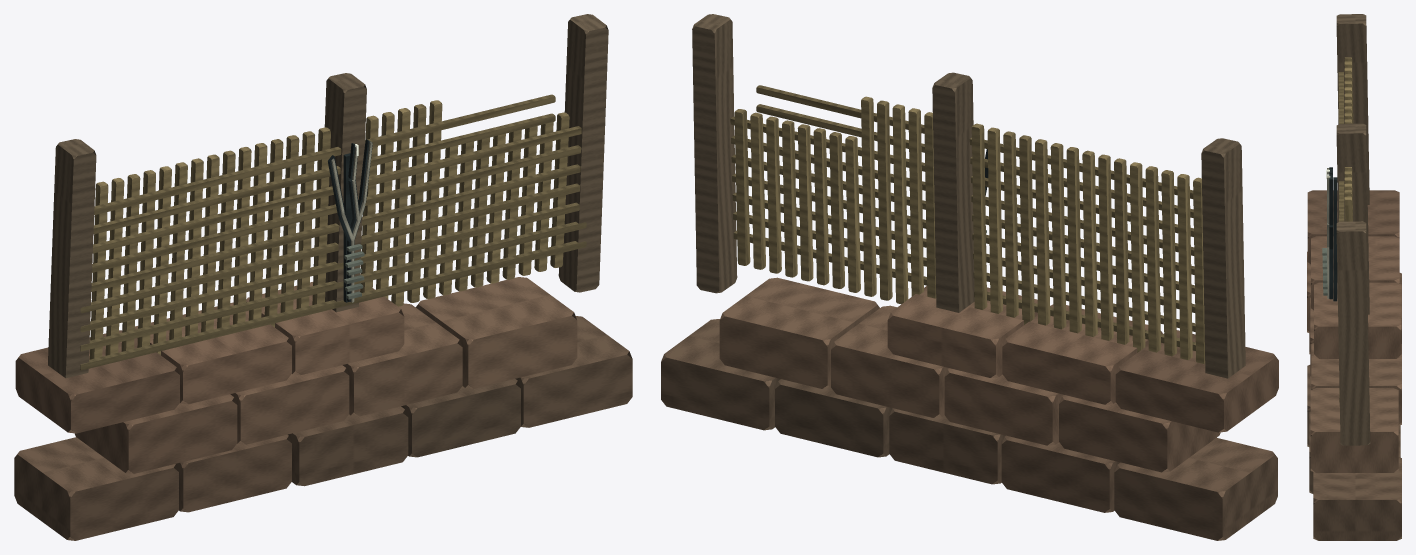
File: cataclysm_fen_wall.glb
3 views of the same model, side by side, from view 1: azimuth 30°, elevation 25°; view 2: azimuth 150°, elevation 25°; view 3: azimuth 270°, elevation 25° (orthographic). The views are drawn at different scales.
Parts seen in each view (by area): view 1: cataclysm_fen_wall; view 2: cataclysm_fen_wall; view 3: cataclysm_fen_wall.
Boxes of the visible parts, x1,y1,x2,y2 form: cataclysm_fen_wall: (14, 14, 632, 540); cataclysm_fen_wall: (661, 14, 1278, 540); cataclysm_fen_wall: (1307, 14, 1401, 540).
Bounding box in the file's own units: 2.73 × 1.71 × 0.4792.
5 materials, 5 textured.
